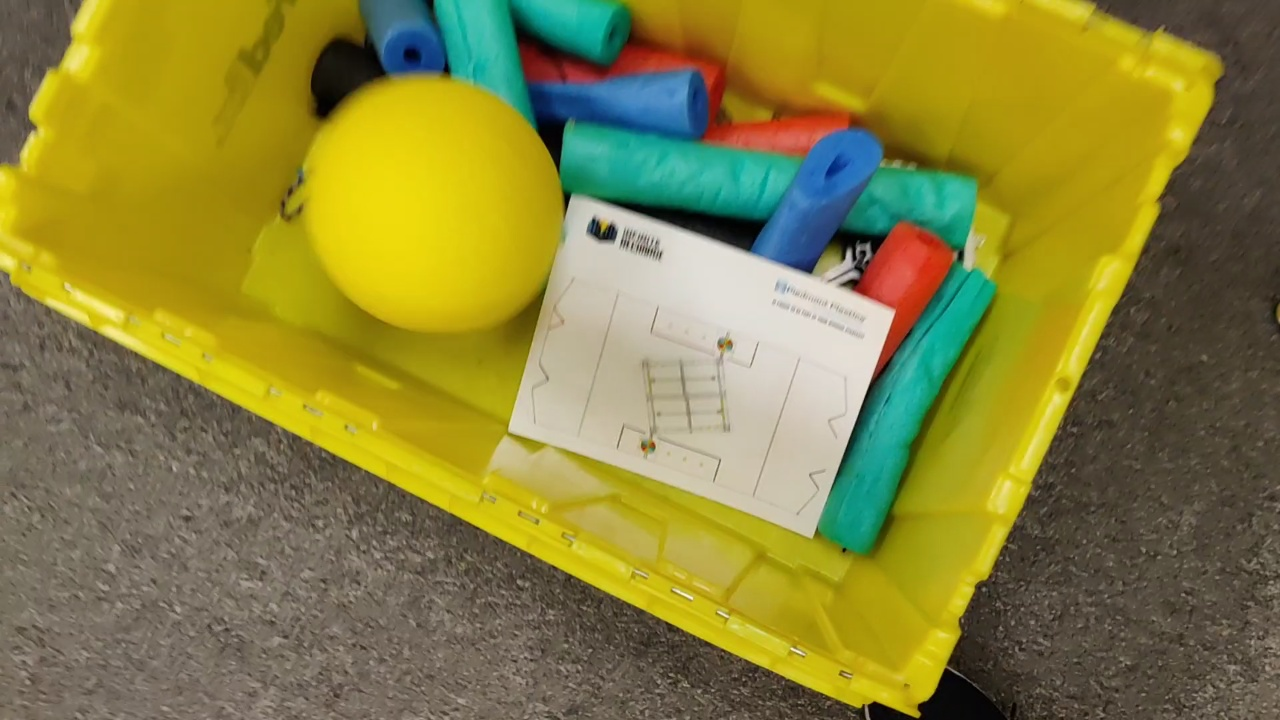Ball: (307, 73, 567, 328)
